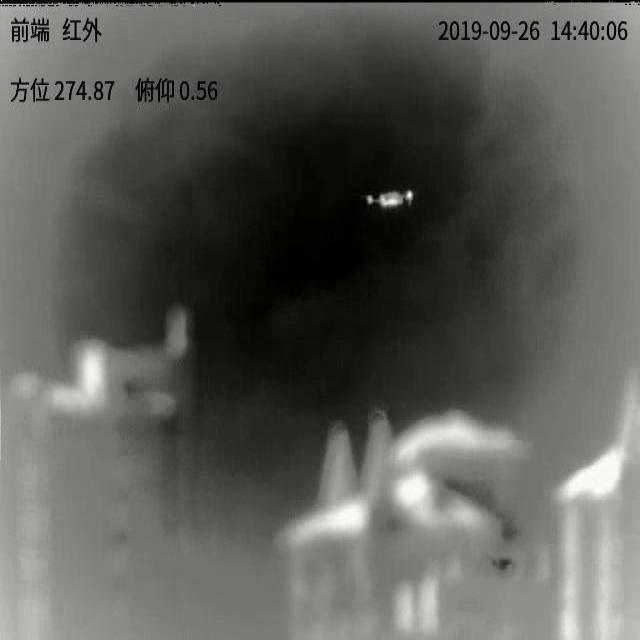drone: (366, 190, 413, 208)
